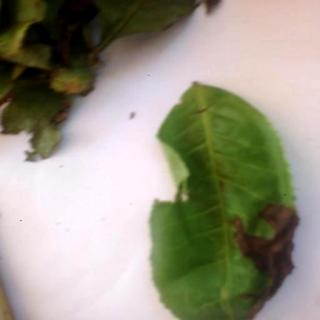Brown Blight: (148, 81, 301, 320)
